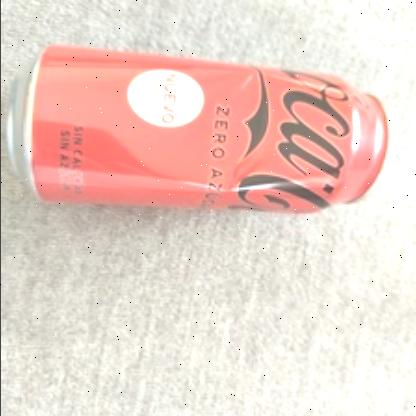Can: (5, 42, 396, 216)
